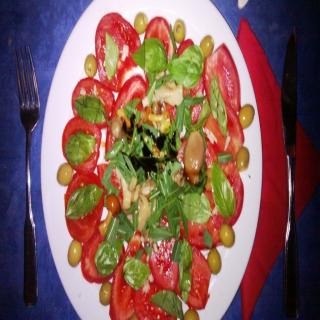Salad: (58, 10, 256, 319)
Tomato: (179, 183, 229, 260), (96, 13, 142, 88), (108, 239, 146, 319), (210, 152, 250, 228), (198, 44, 240, 115), (81, 222, 126, 283), (176, 39, 206, 127), (68, 174, 102, 246), (150, 233, 186, 299), (177, 236, 210, 308), (58, 118, 100, 172), (142, 13, 172, 88), (211, 106, 249, 162), (73, 81, 115, 130), (132, 270, 171, 320)
